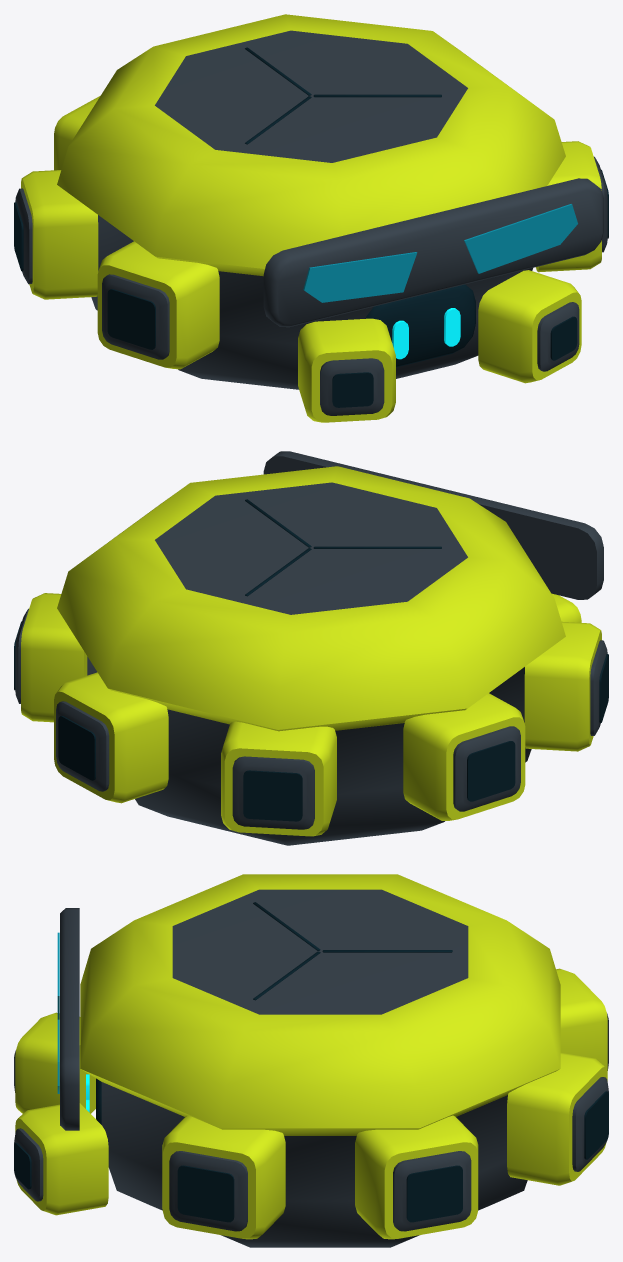
Rendered from linter_agent_v01.glb.
The picture shows the model from 3 angles, top to bottom: view 1: azimuth 30°, elevation 25°; view 2: azimuth 150°, elevation 25°; view 3: azimuth 270°, elevation 25°; orthographic projection.
Visible parts, largest first — view 1: linter_agent_model; view 2: linter_agent_model; view 3: linter_agent_model.
Part boxes in pixels (x1,y1,x2,y2): linter_agent_model: (14, 14, 608, 422); linter_agent_model: (14, 451, 608, 845); linter_agent_model: (14, 874, 608, 1247).
Bounding box in the file's own units: 2.49 × 1.08 × 2.56.
2 materials, 2 textured.
